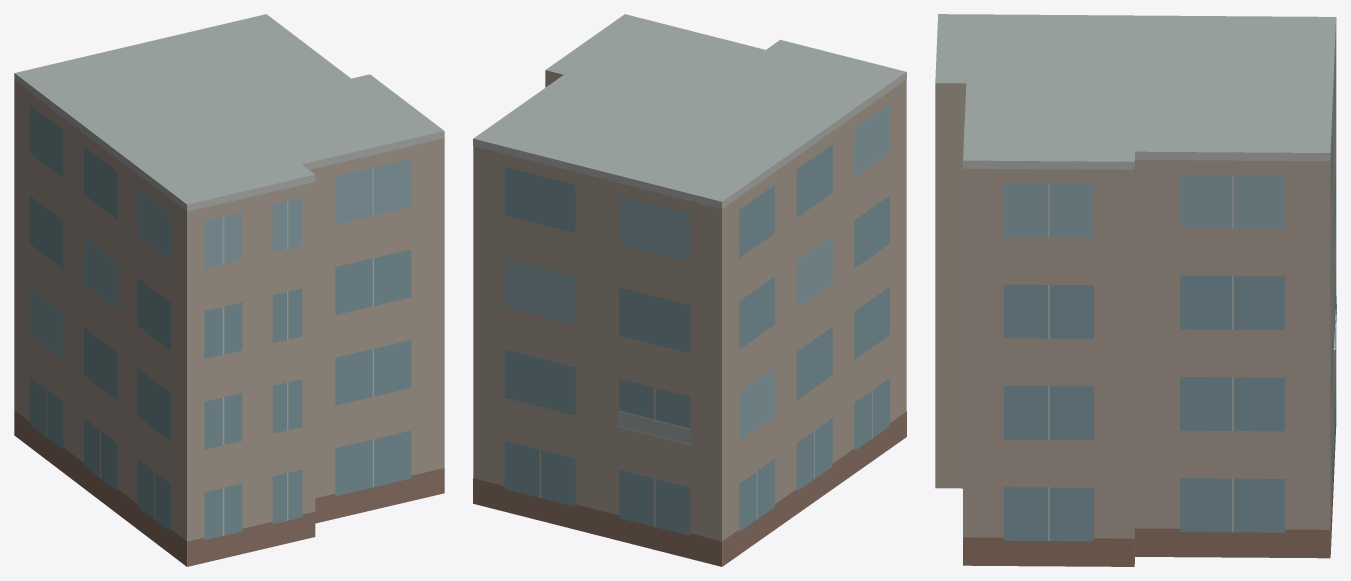
The model's file is residential-2072df8d-91b0-471c-a82e-d698ee2f3b44.glb.
3 renders of one model, left to right at view 1: azimuth 30°, elevation 25°; view 2: azimuth 150°, elevation 25°; view 3: azimuth 270°, elevation 25°, orthographic. The views are drawn at different scales.
Visible parts, largest first — view 1: residential-2072df8d-91b0-471c-a82e-d698ee2f3b44.tmp; view 2: residential-2072df8d-91b0-471c-a82e-d698ee2f3b44.tmp; view 3: residential-2072df8d-91b0-471c-a82e-d698ee2f3b44.tmp.
Part boxes in pixels (x1=…): residential-2072df8d-91b0-471c-a82e-d698ee2f3b44.tmp: x1=14, y1=14, x2=444, y2=566; residential-2072df8d-91b0-471c-a82e-d698ee2f3b44.tmp: x1=473, y1=14, x2=906, y2=566; residential-2072df8d-91b0-471c-a82e-d698ee2f3b44.tmp: x1=935, y1=14, x2=1336, y2=566.
Size of the model in its own units: 9.56 by 12.2 by 10.97.
